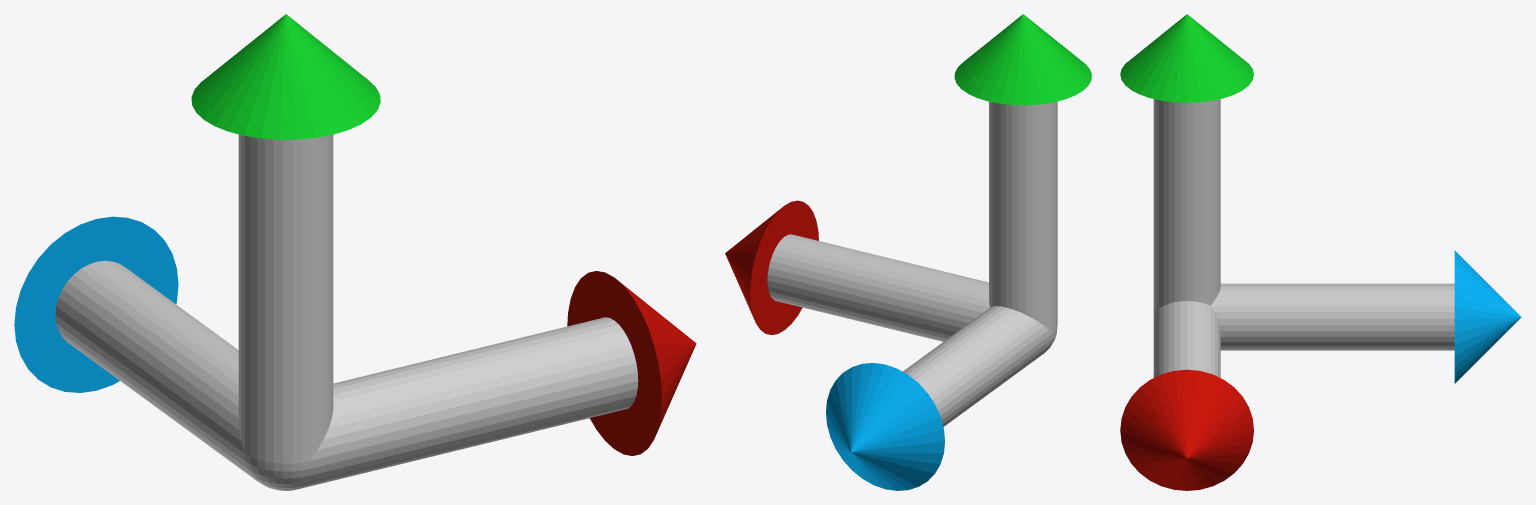
File: Coords.obj
3 renders of one model, left to right at view 1: azimuth 30°, elevation 25°; view 2: azimuth 150°, elevation 25°; view 3: azimuth 270°, elevation 25°, orthographic. The views are drawn at different scales.
Parts seen in each view (by area): view 1: Cylinder, Cylinder.002, Cylinder.001, Cone, Cone.001, Cone.002, Sphere; view 2: Cylinder, Cylinder.002, Cone.001, Cylinder.001, Cone, Cone.002; view 3: Cylinder.001, Cylinder, Cone.002, Cone, Cone.001, Cylinder.002.
Part boxes in pixels (x1,y1,x2,y2): Cylinder: (238,134,333,463); Cylinder.002: (300,317,638,488); Cylinder.001: (55,260,255,479); Cone: (191,14,380,139); Cone.001: (14,216,178,392); Cone.002: (567,271,696,455); Sphere: (245,454,309,490); Cylinder: (989,101,1057,332); Cylinder.002: (767,234,989,341); Cone.001: (826,363,944,490); Cylinder.001: (903,306,1052,426); Cone: (954,14,1091,105); Cone.002: (725,200,818,334); Cylinder.001: (1211,283,1454,350); Cylinder: (1153,99,1220,316); Cone.002: (1120,369,1253,490); Cone: (1120,14,1253,102); Cone.001: (1454,250,1521,383); Cylinder.002: (1153,301,1220,377).
Bounding box in the file's own units: 1.2 × 1.2 × 1.2.
